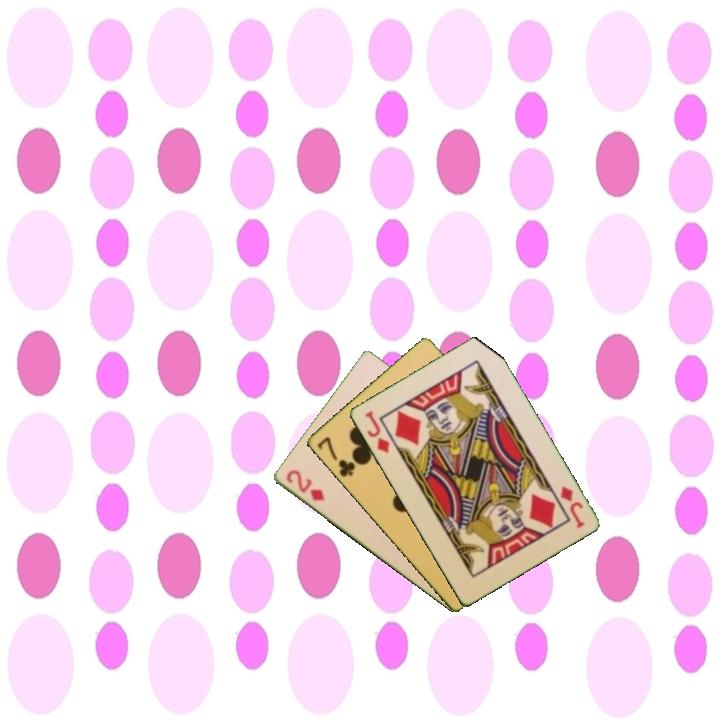2d: (282, 466, 327, 504)
7c: (313, 433, 358, 480)
Jd: (361, 407, 392, 456), (556, 482, 587, 531)
